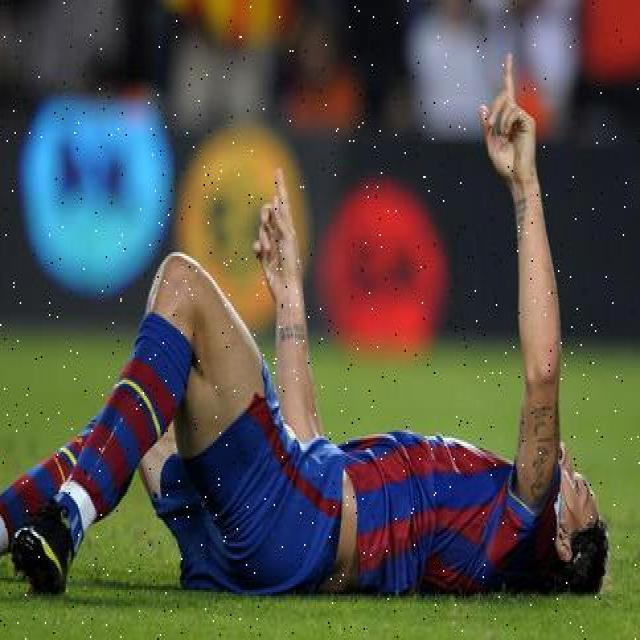fall: (16, 264, 613, 594)
